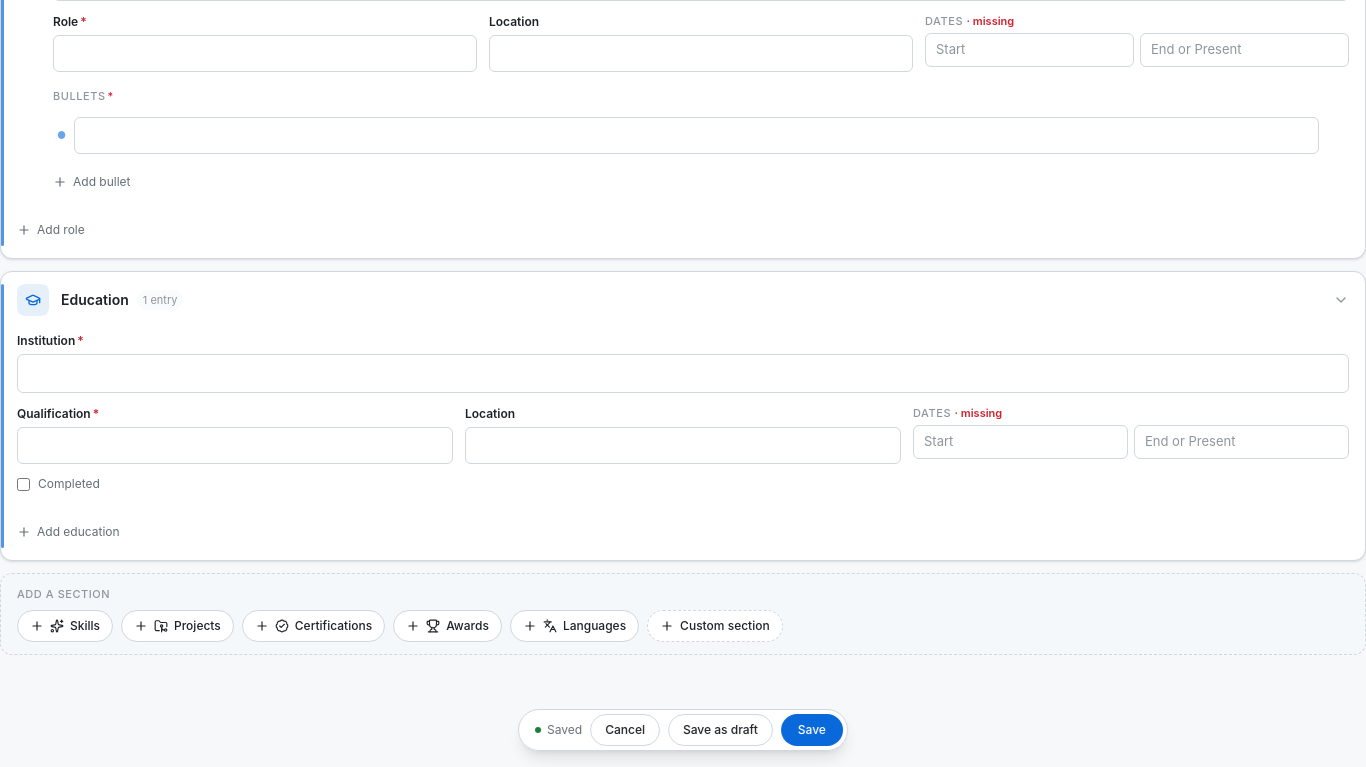
Test case: Skills section › shows the AI-extraction control in create mode
The image size is (1366, 767).
(page scrolled)
// Skills starts opted out in create mode with a blank doc — opt in first.
Click the button "Skills" at coordinates (65, 626), box [17,610,113,642]
(page scrolled)
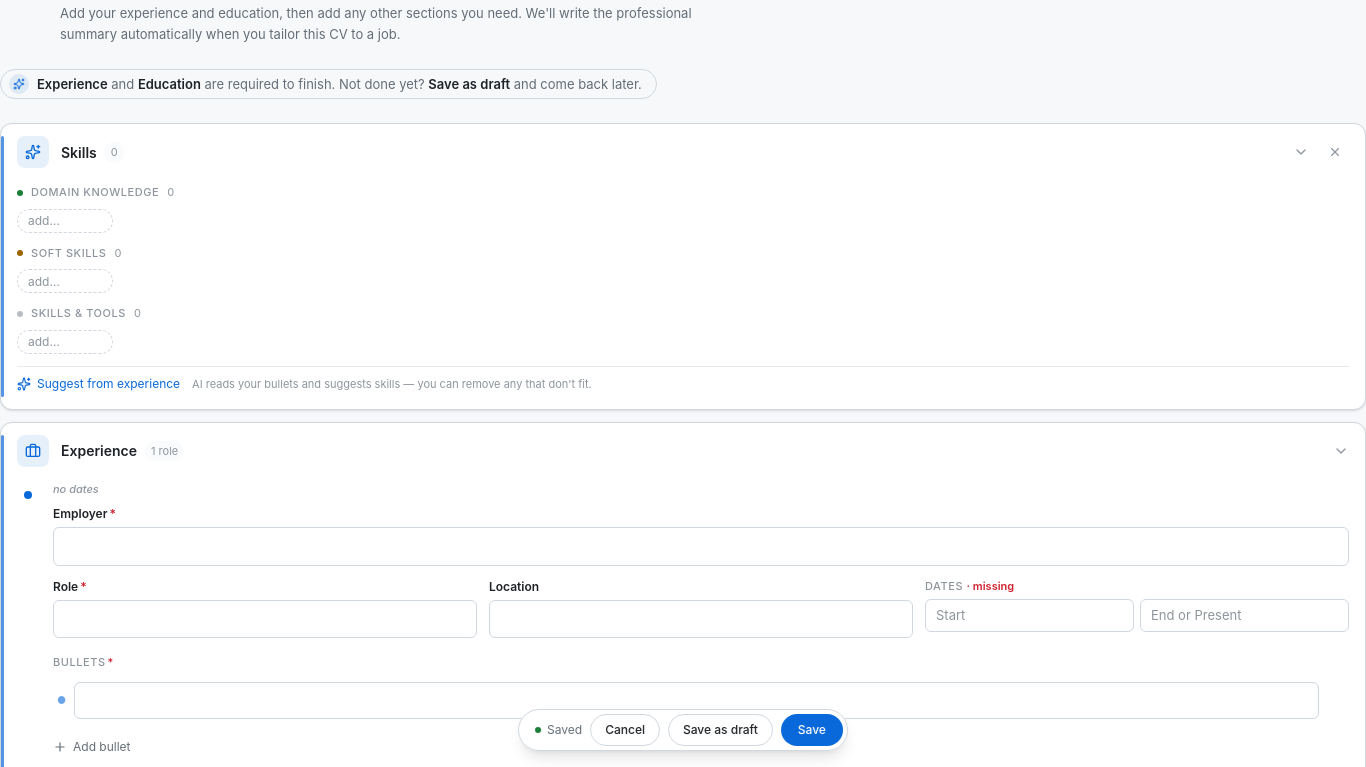
Result: the button "Suggest from experience" is shown at [17,375,180,393]
